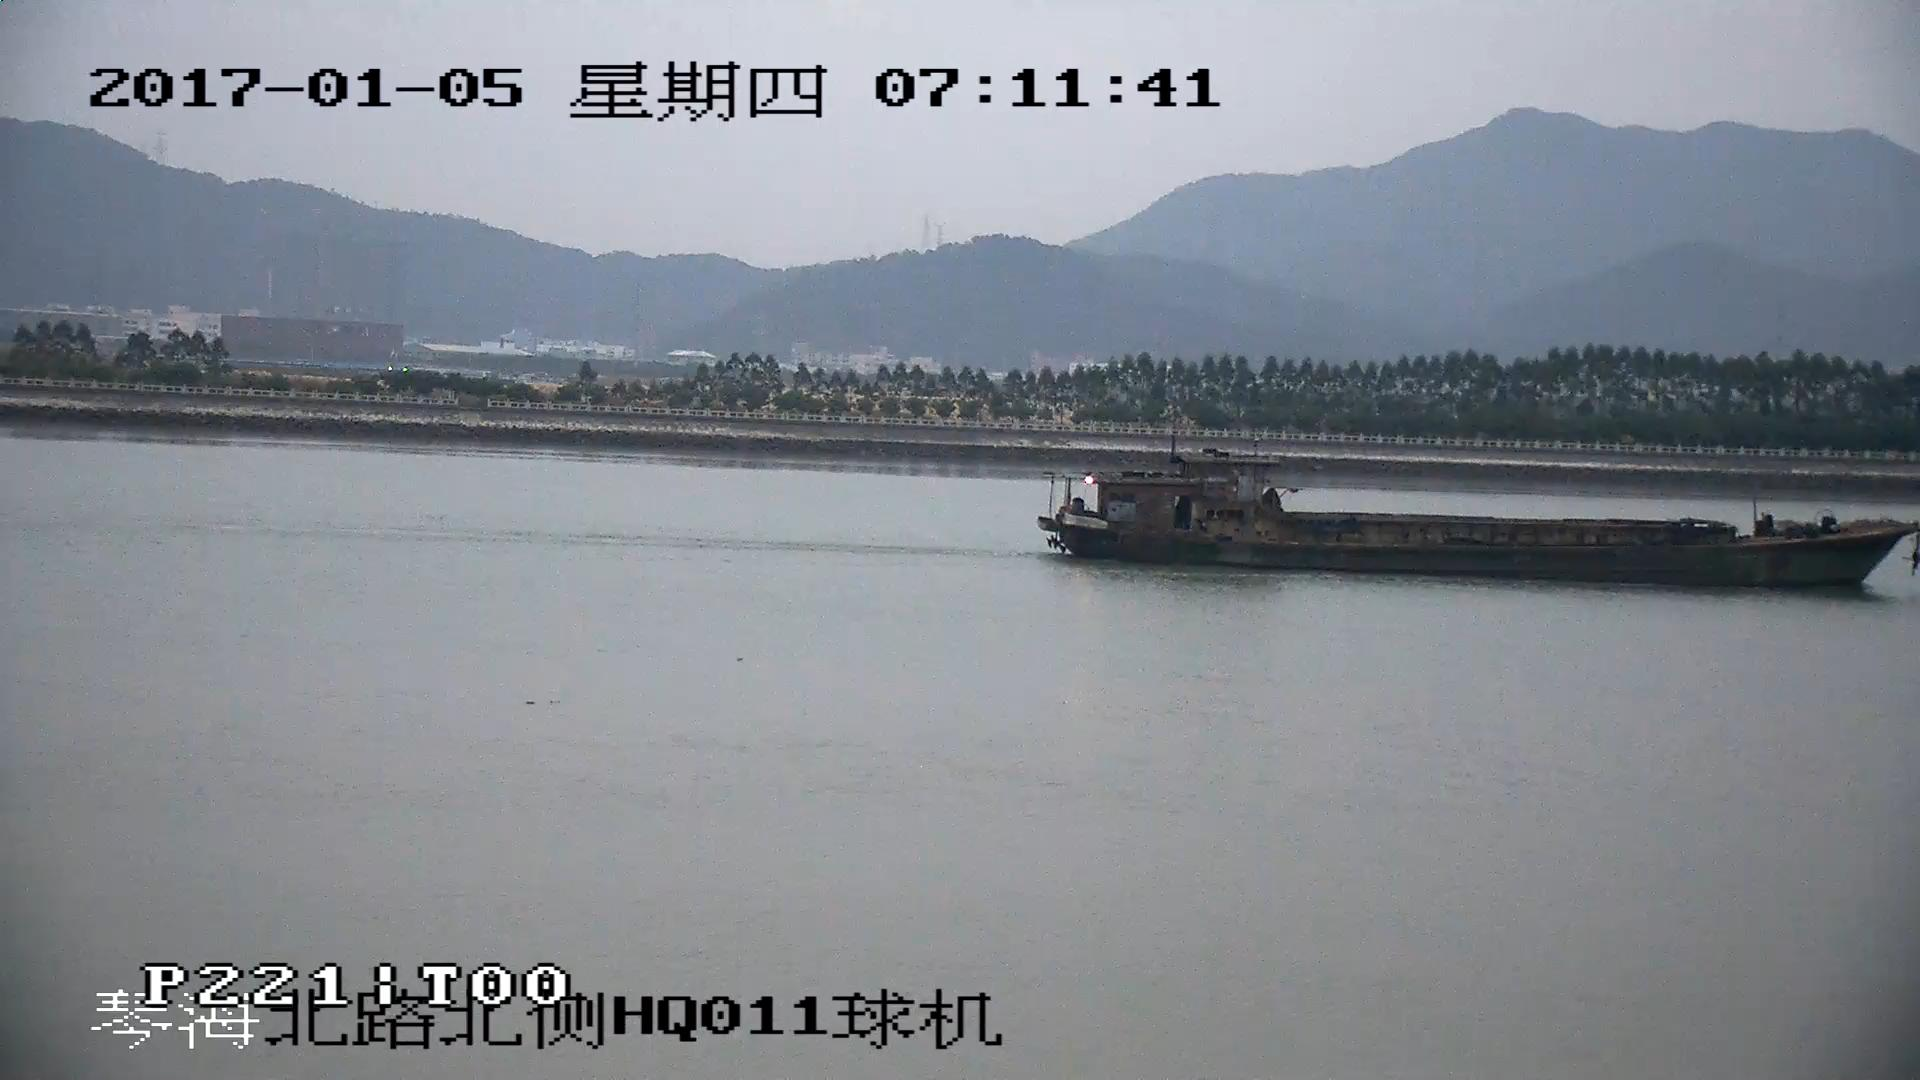bulk cargo carrier: (1041, 455, 1920, 583)
